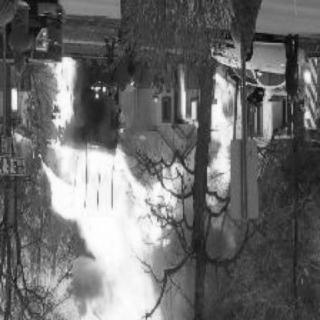Fire: (42, 147, 194, 320), (8, 57, 91, 231), (174, 72, 251, 234)
other: (291, 52, 317, 150)
